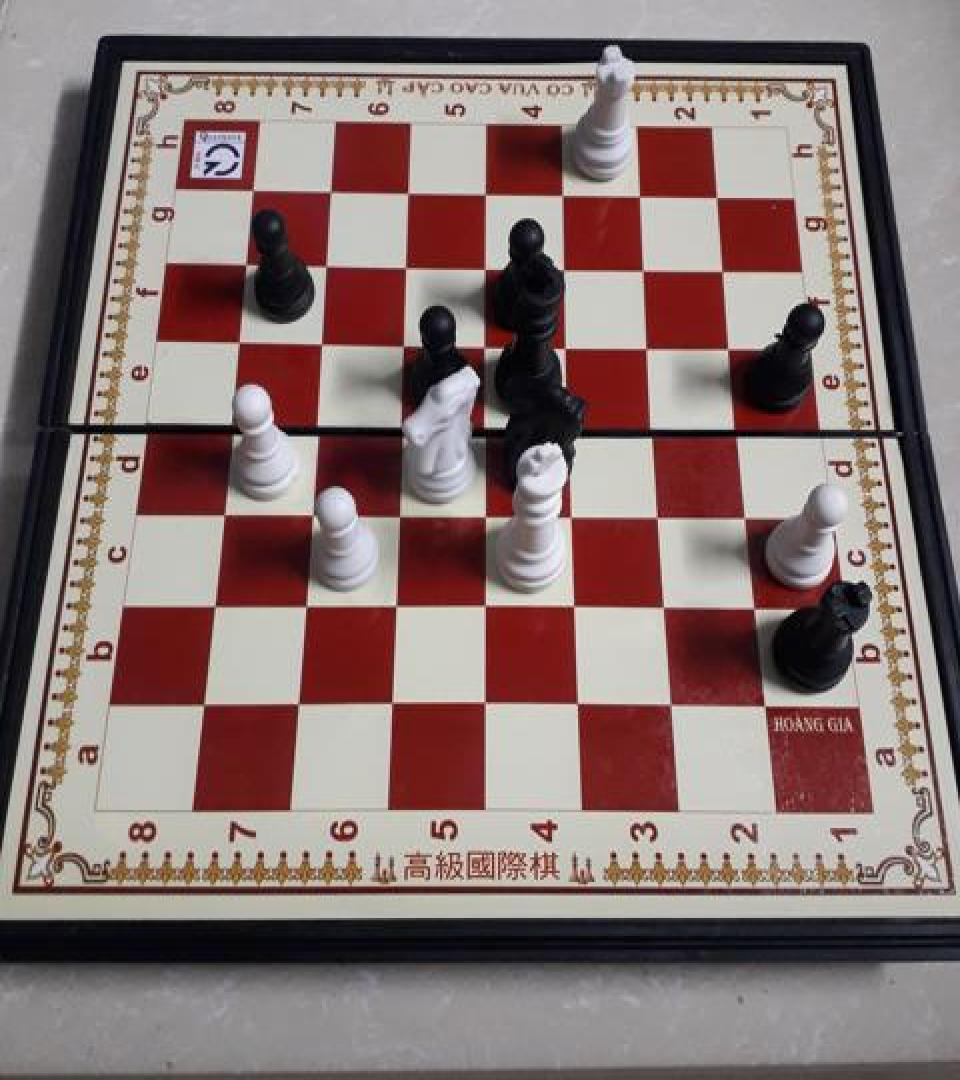xcorner: (197, 581, 229, 618), (188, 682, 220, 718), (281, 683, 313, 719), (375, 683, 407, 719), (468, 684, 500, 720), (561, 685, 593, 721), (654, 686, 686, 722), (747, 686, 779, 722), (288, 583, 320, 619), (378, 584, 410, 620), (468, 585, 500, 621), (558, 586, 590, 622), (648, 586, 680, 622), (738, 587, 770, 623), (206, 490, 238, 526), (294, 490, 326, 526), (381, 490, 413, 526), (468, 492, 500, 528), (555, 493, 587, 529), (642, 494, 674, 530), (729, 495, 761, 531), (215, 402, 247, 438), (299, 403, 331, 439), (384, 404, 416, 440), (468, 405, 500, 441), (553, 406, 585, 442), (637, 407, 669, 443), (721, 408, 753, 444), (223, 320, 255, 356), (305, 322, 337, 358), (387, 323, 419, 359), (468, 324, 500, 360), (550, 324, 582, 360), (632, 325, 664, 361), (713, 326, 745, 362), (230, 244, 262, 280), (310, 245, 342, 281), (389, 246, 421, 282), (468, 246, 500, 282), (548, 248, 580, 284), (627, 248, 659, 284), (706, 250, 738, 286), (237, 172, 269, 208), (314, 172, 346, 208), (391, 173, 423, 209), (468, 174, 500, 210), (545, 176, 577, 212), (622, 176, 654, 212), (699, 178, 731, 214)
